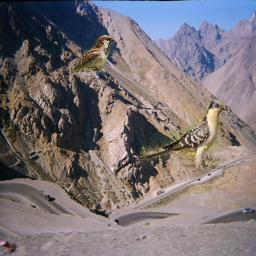Cuckoo: (140, 99, 226, 169)
Sparrow: (71, 35, 115, 75)
